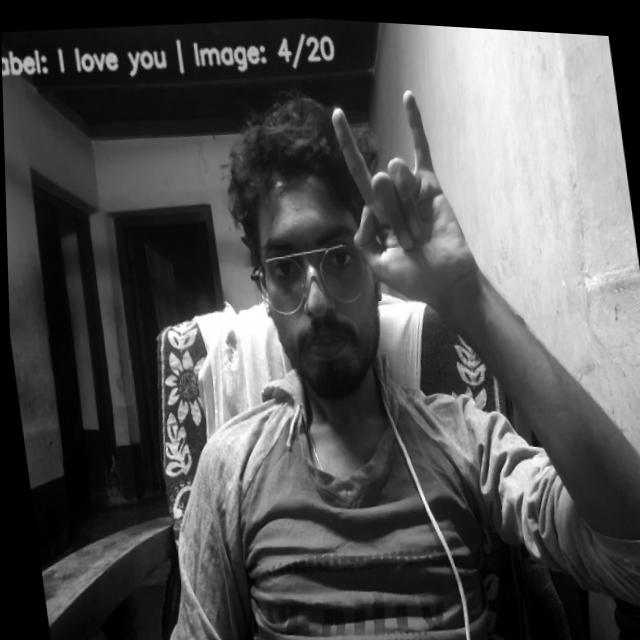I love you: (327, 70, 486, 301)
